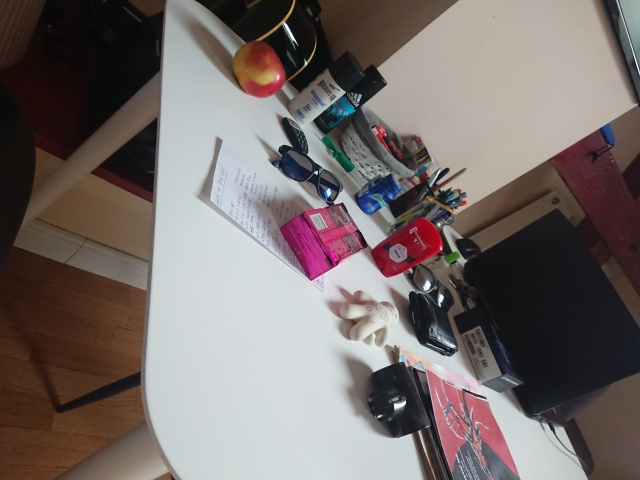Barcaffe Classic Original 225g: (277, 200, 370, 282)
